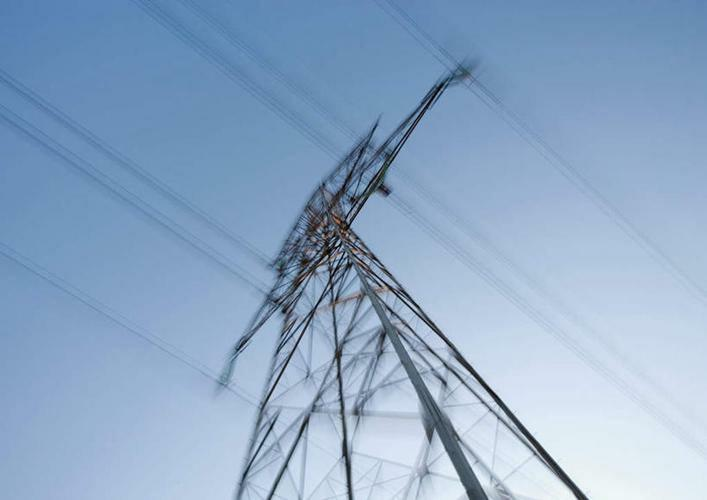power_tower: (196, 51, 589, 500)
